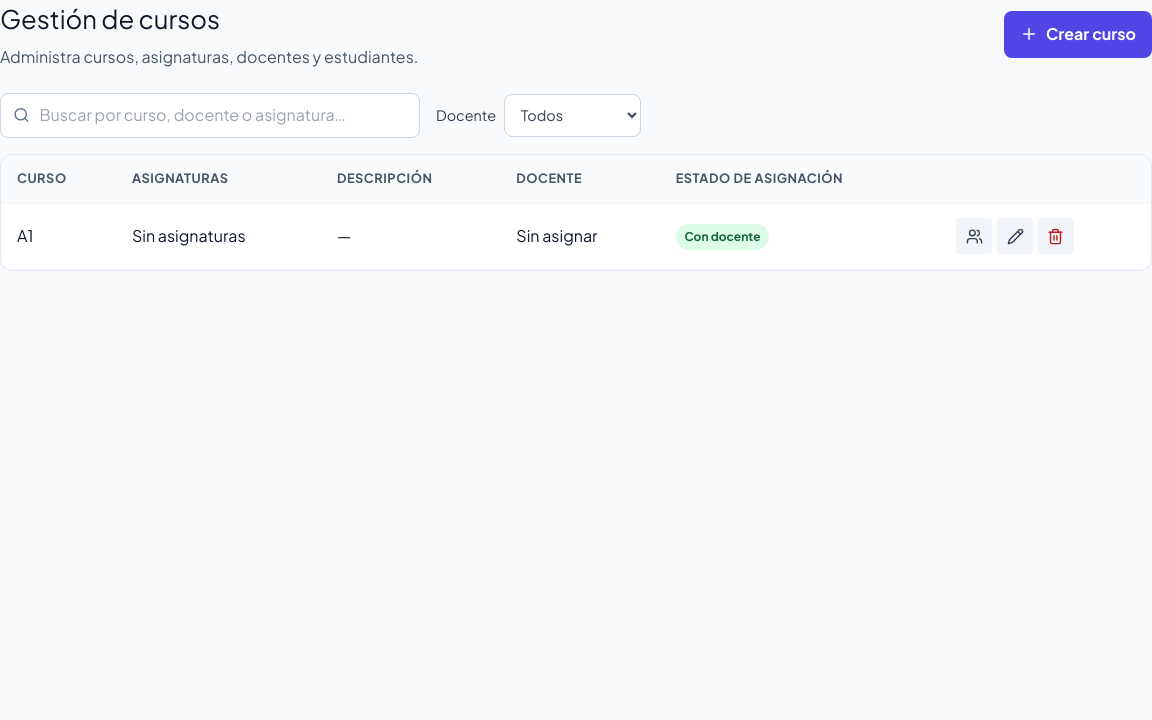
Test: CourseManagement student enrollment search › shows a clear-search action when there are no matches
Click the button named "Gestionar estudiantes de A1": click(974, 236) [956,218,992,254]
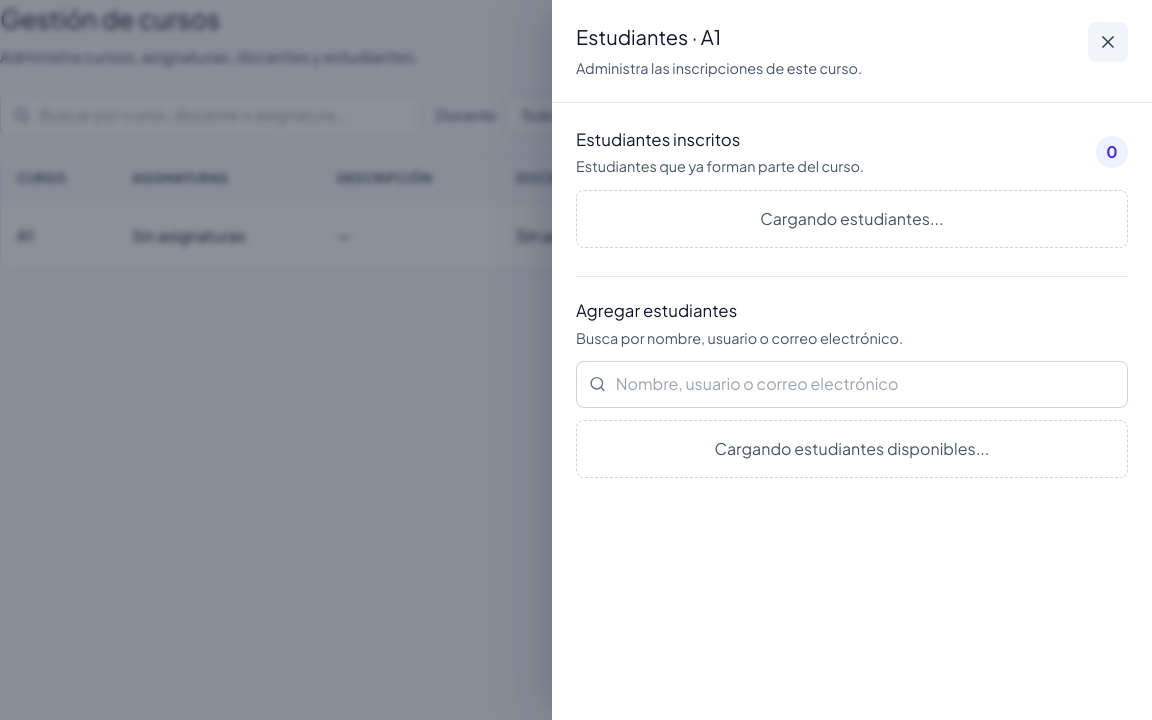
In the search field named "Buscar estudiantes disponibles": (865, 384) [616,372,1115,396], type "inexistente"
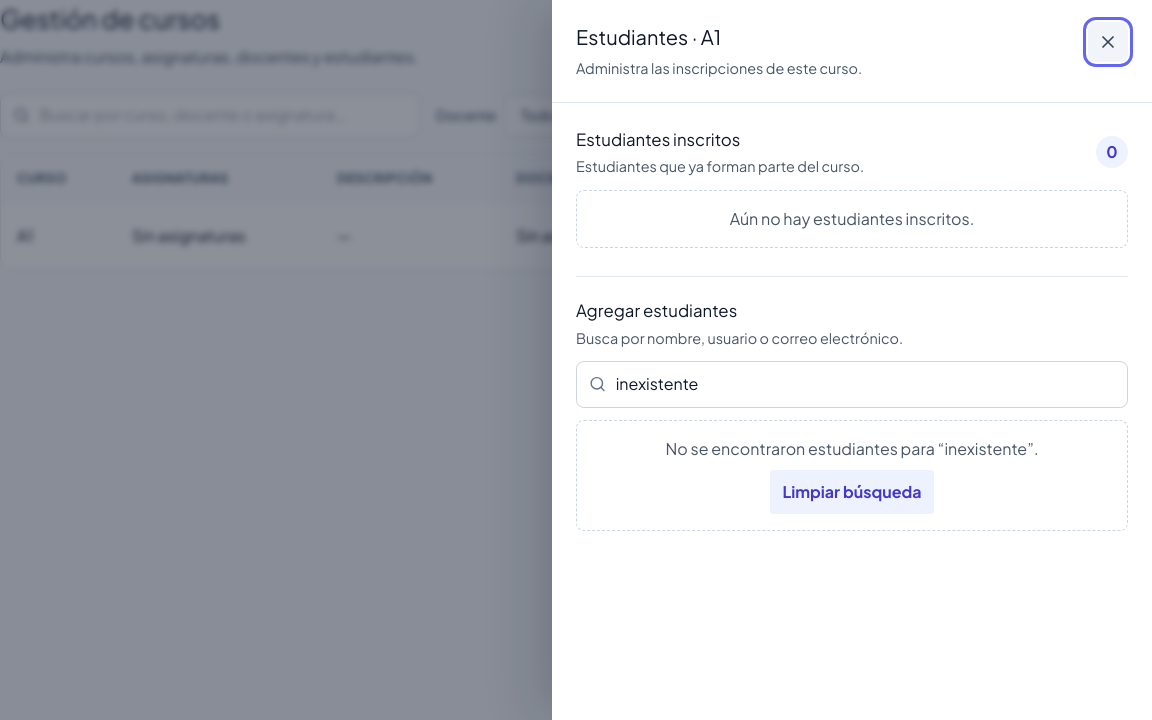
Click the button "Limpiar búsqueda": click(852, 492) [770,470,934,514]
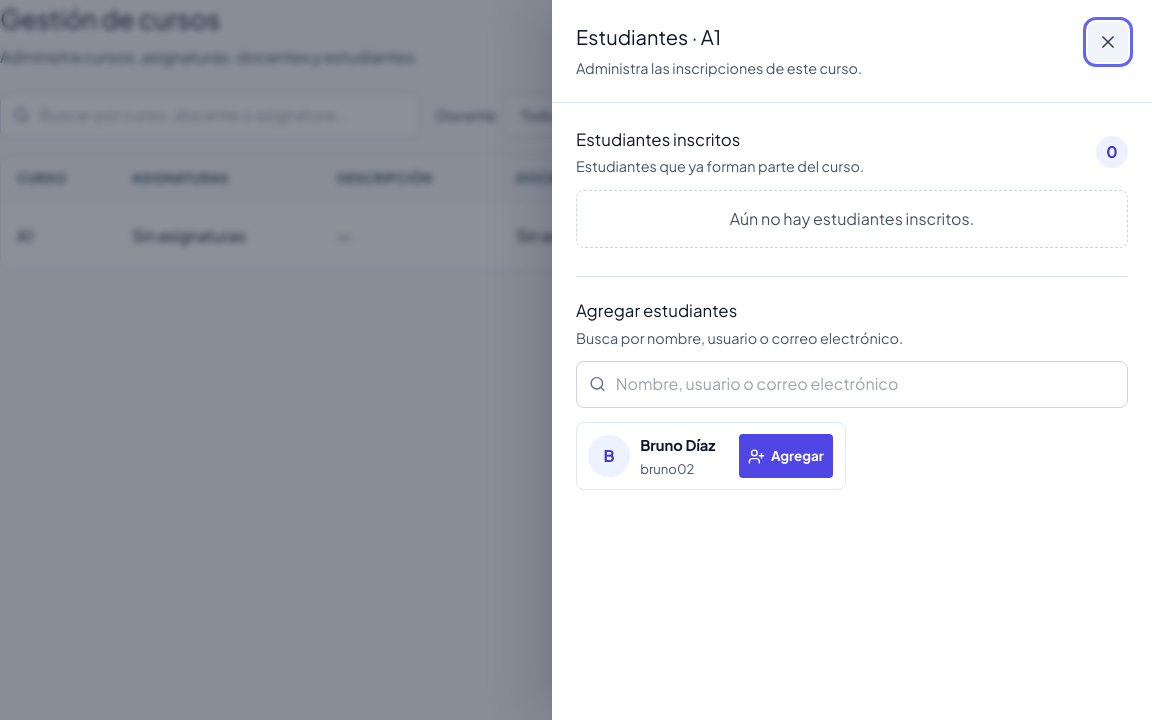
Check: the text "Bruno Díaz" is shown, box [640,434,728,456]
